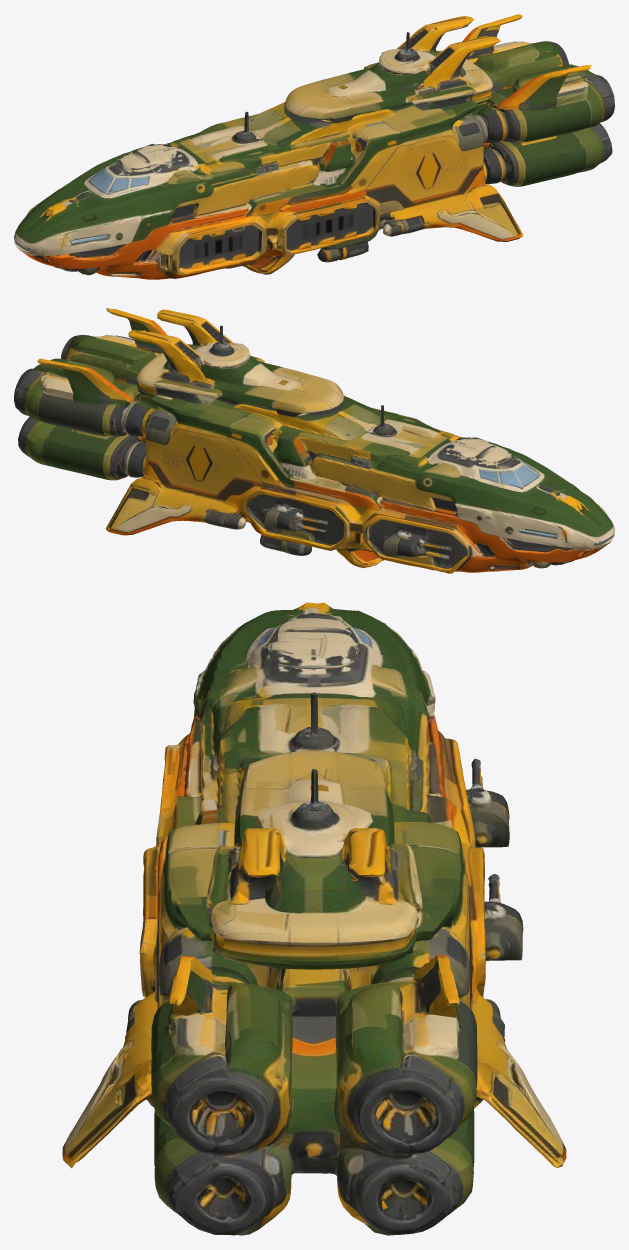
File: nave_fau.glb
3 renders of one model, top to bottom at view 1: azimuth 30°, elevation 25°; view 2: azimuth 150°, elevation 25°; view 3: azimuth 270°, elevation 25°, orthographic. The views are drawn at different scales.
Visible parts, largest first — view 1: Mesh0; view 2: Mesh0; view 3: Mesh0.
Boxes of the visible parts, x1=… form: Mesh0: x1=14, y1=14, x2=614, y2=279; Mesh0: x1=14, y1=308, x2=614, y2=573; Mesh0: x1=62, y1=602, x2=566, y2=1235.
Size of the model in its own units: 1.9 by 0.6031 by 0.7363.
1 material, 1 textured.
